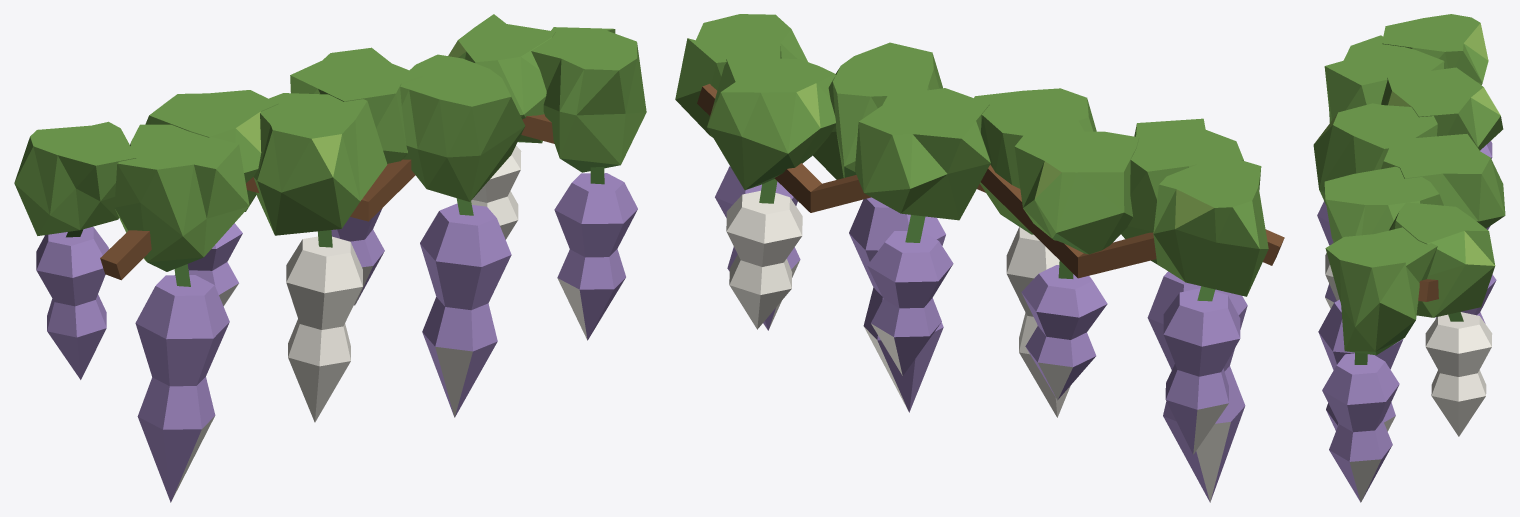
File: FMS_Garden_Wisteria_Drape.fbx
3 renders of one model, left to right at view 1: azimuth 30°, elevation 25°; view 2: azimuth 150°, elevation 25°; view 3: azimuth 270°, elevation 25°, orthographic. The views are drawn at different scales.
Visible parts, largest first — view 1: FMS_Garden_Wisteria_Drape_Body; view 2: FMS_Garden_Wisteria_Drape_Body; view 3: FMS_Garden_Wisteria_Drape_Body.
Part boxes in pixels (bbox=[...]): FMS_Garden_Wisteria_Drape_Body: bbox=[14, 14, 646, 502]; FMS_Garden_Wisteria_Drape_Body: bbox=[675, 14, 1284, 502]; FMS_Garden_Wisteria_Drape_Body: bbox=[1313, 14, 1505, 502].
Bounding box in the file's own units: 1.51 × 0.856 × 0.4702.
Materials: 1 (1 with a texture image).
